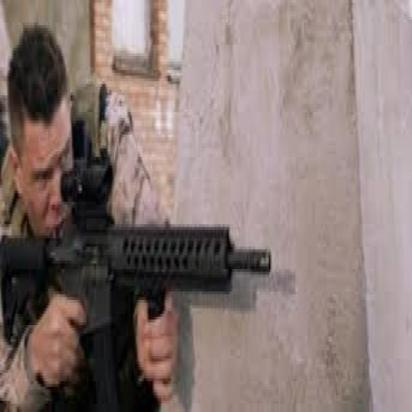Gun: (0, 172, 275, 412)
